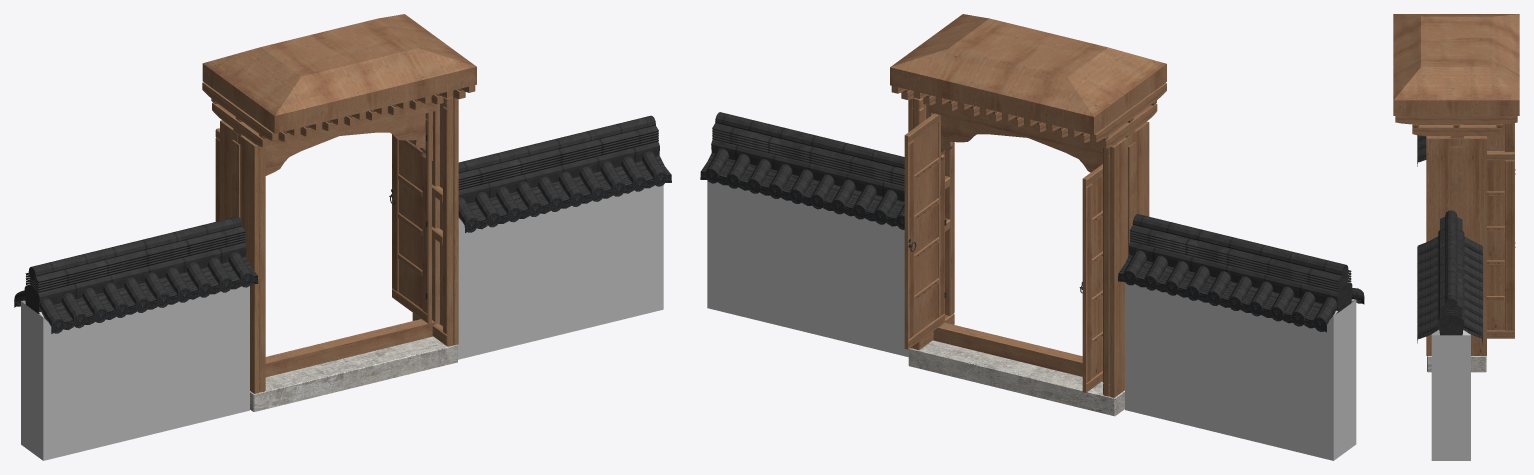
File: SM_HBJ_HG_StoneWallH_Splines_14.fbx
The picture shows the model from 3 angles, left to right: view 1: azimuth 30°, elevation 25°; view 2: azimuth 150°, elevation 25°; view 3: azimuth 270°, elevation 25°; orthographic projection. The views are drawn at different scales.
Visible parts, largest first — view 1: SM_HBJ_HG_StoneWallH_Splines_14; view 2: SM_HBJ_HG_StoneWallH_Splines_14; view 3: SM_HBJ_HG_StoneWallH_Splines_14.
Part boxes in pixels (x1,y1,x2,y2): SM_HBJ_HG_StoneWallH_Splines_14: (14,14,671,460); SM_HBJ_HG_StoneWallH_Splines_14: (700,14,1364,460); SM_HBJ_HG_StoneWallH_Splines_14: (1393,14,1519,460).
Size of the model in its own units: 624 by 126 by 315.
